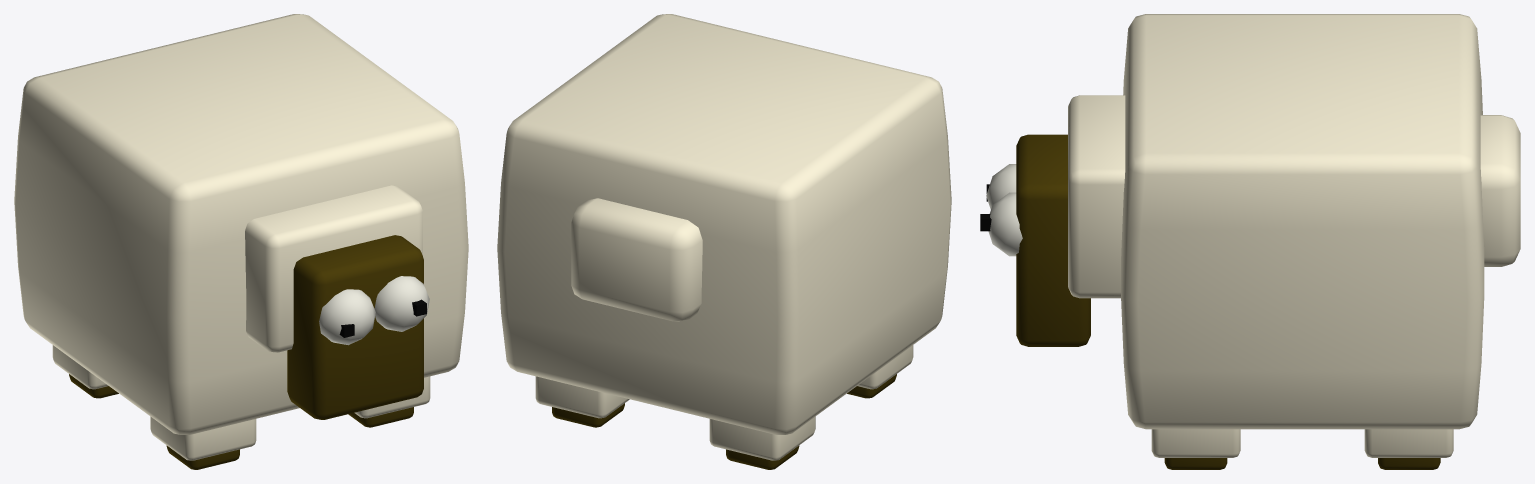
The model's file is Shoop.glb.
3 renders of one model, left to right at view 1: azimuth 30°, elevation 25°; view 2: azimuth 150°, elevation 25°; view 3: azimuth 270°, elevation 25°, orthographic. The views are drawn at different scales.
Visible parts, largest first — view 1: ShoopBody, ShoopFace, ShoopHead, ShoopLegs, ShoopEye01, ShoopEye02, ShoopFeet; view 2: ShoopBody, ShoopTail, ShoopLegs, ShoopFeet; view 3: ShoopBody, ShoopFace, ShoopHead, ShoopTail, ShoopLegs, ShoopEye02, ShoopFeet, ShoopEye01.
Boxes of the visible parts, x1,y1,x2,y2 form: ShoopBody: [14, 14, 468, 434]; ShoopFace: [287, 235, 423, 419]; ShoopHead: [245, 185, 422, 352]; ShoopLegs: [52, 345, 430, 460]; ShoopEye01: [319, 289, 375, 345]; ShoopEye02: [374, 276, 429, 331]; ShoopFeet: [69, 374, 413, 469]; ShoopBody: [497, 14, 951, 434]; ShoopTail: [571, 198, 702, 321]; ShoopLegs: [535, 345, 913, 460]; ShoopFeet: [552, 374, 896, 469]; ShoopBody: [1121, 14, 1484, 429]; ShoopFace: [1016, 134, 1090, 346]; ShoopHead: [1068, 95, 1125, 298]; ShoopTail: [1480, 115, 1520, 266]; ShoopLegs: [1151, 429, 1453, 457]; ShoopEye02: [988, 192, 1022, 256]; ShoopFeet: [1164, 458, 1440, 469]; ShoopEye01: [986, 164, 1016, 209].
Bounding box in the file's own units: 1.07 × 1.03 × 1.53.
1 material, 1 textured.
